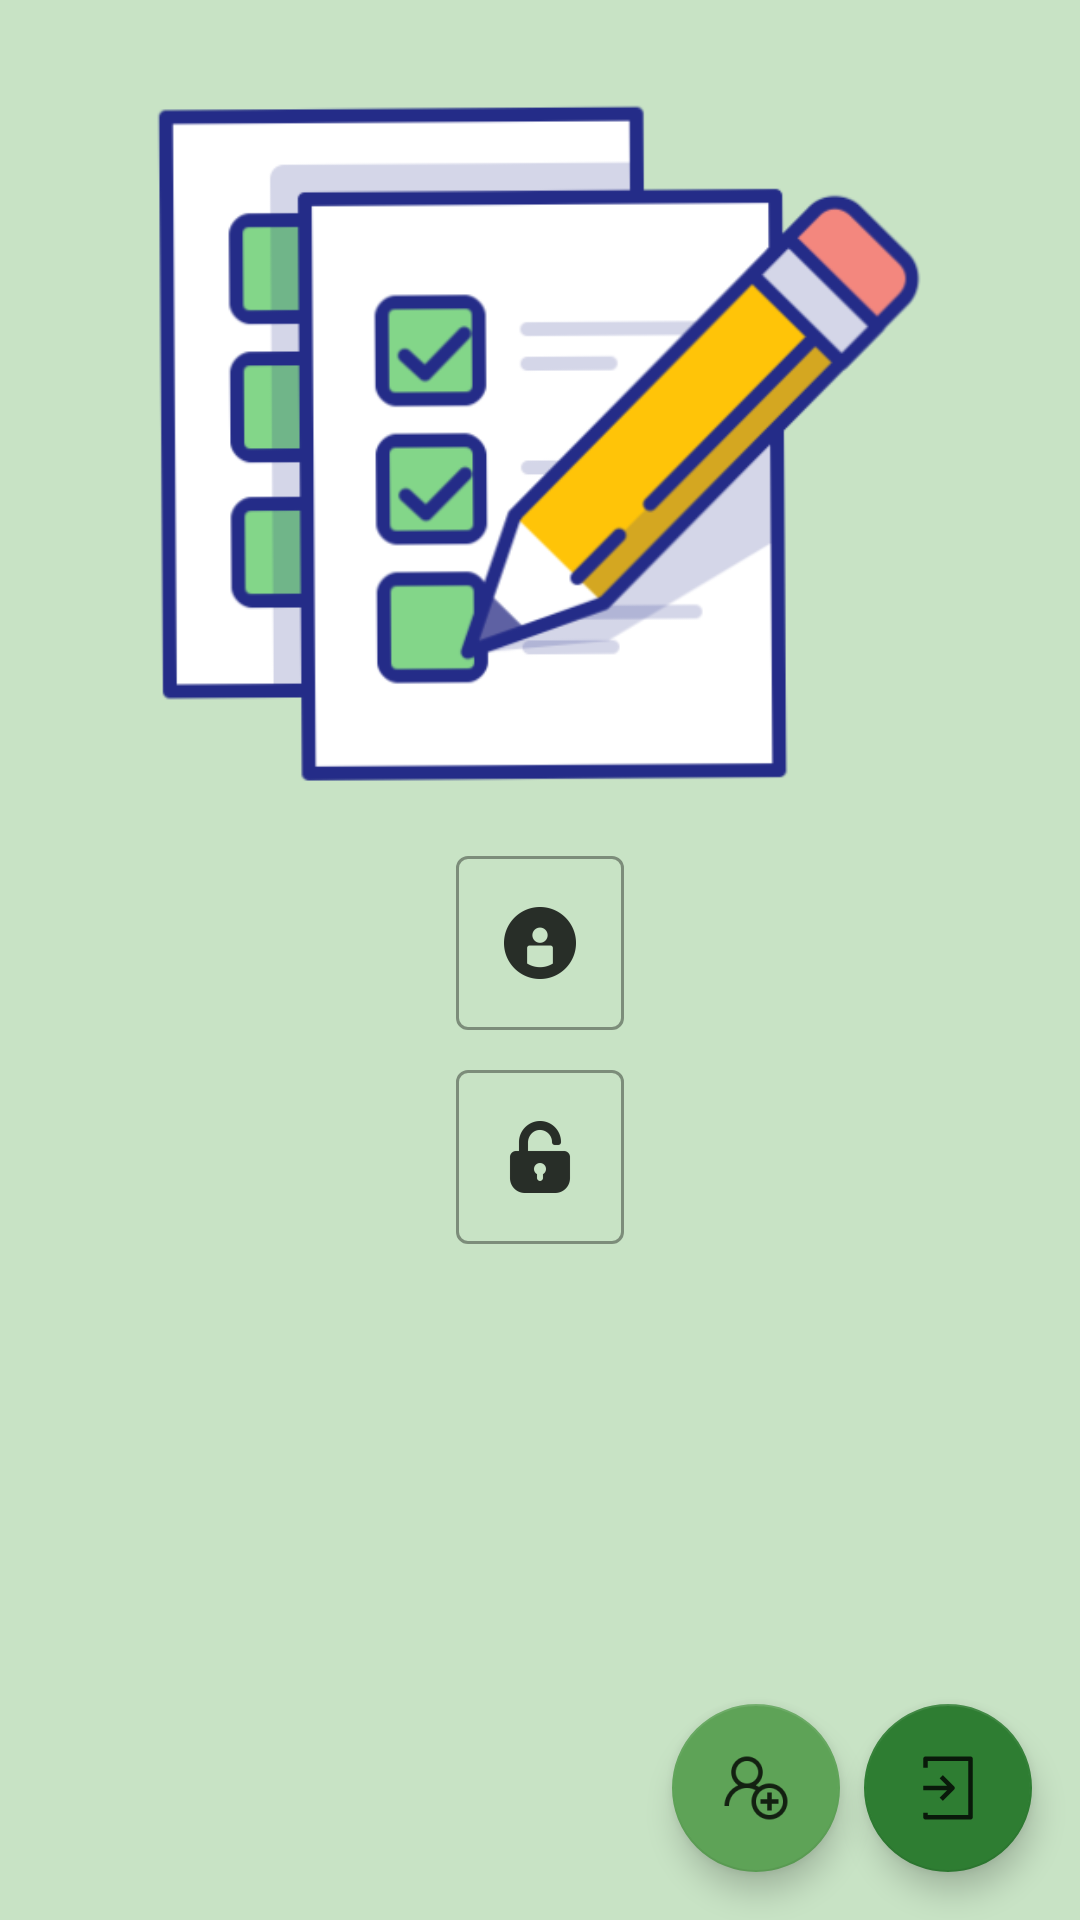

Icons on this 1080px×1920px Android screen, each with its box as {"x1": x1, "y1": y1, "x2": x2, "y2": y2}:
login: {"x1": 864, "y1": 1704, "x2": 1032, "y2": 1872}
signup: {"x1": 672, "y1": 1704, "x2": 840, "y2": 1872}
